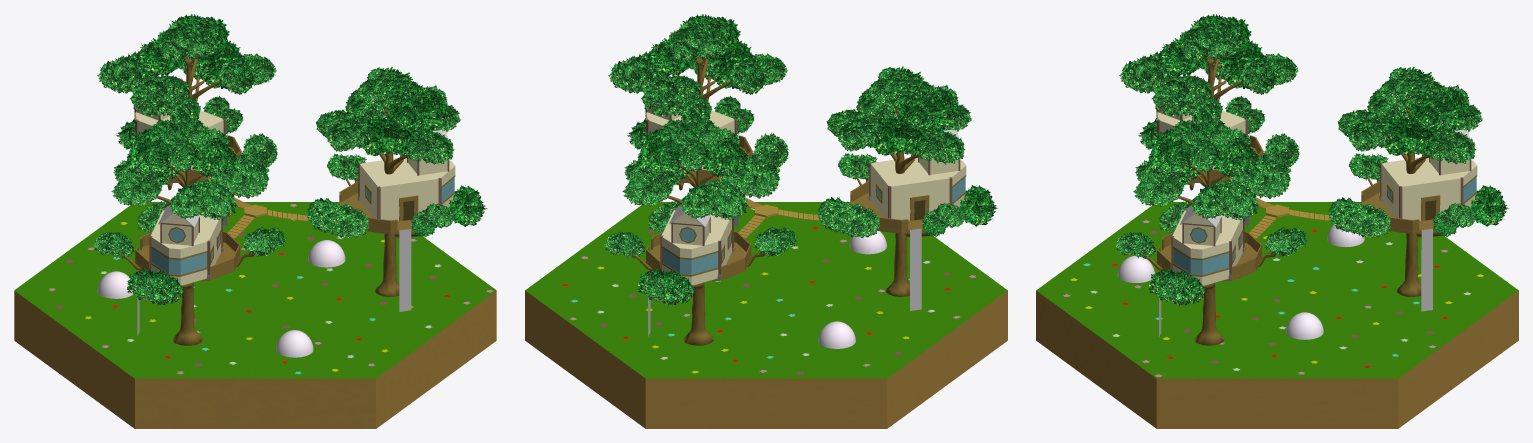
The model's file is Tuile_Foret_Village_Niv4.fbx.
3 renders of one model, left to right at view 1: azimuth 30°, elevation 25°; view 2: azimuth 150°, elevation 25°; view 3: azimuth 270°, elevation 25°, orthographic.
Parts seen in each view (by area): view 1: Tuile, Arbres, maison.001, maison.002, Sphere, platforme.002, platforme.001, Plane.001, maison, poutre.002; view 2: Tuile, Arbres, maison.002, maison, Sphere, platforme, platforme.002, Plane.002, maison.001, poutre; view 3: Tuile, Arbres, maison, maison.001, Sphere, platforme.001, platforme, Plane, maison.002, poutre.001.
Boxes of the visible parts, x1,y1,x2,y2 form: Tuile: (14,202,496,428); Arbres: (93,14,487,345); maison.001: (360,157,455,221); maison.002: (151,210,221,285); Sphere: (97,240,345,357); platforme.002: (135,231,240,281); platforme.001: (339,181,439,234); Plane.001: (399,229,411,311); maison: (134,109,223,169); poutre.002: (149,209,223,278); Tuile: (525,202,1007,428); Arbres: (604,14,997,345); maison.002: (870,157,966,220); maison: (661,210,731,285); Sphere: (651,231,886,348); platforme: (646,231,751,281); platforme.002: (850,180,950,233); Plane.002: (910,228,921,310); maison.001: (645,109,734,169); poutre: (660,209,734,278); Tuile: (1036,202,1518,428); Arbres: (1114,14,1508,345); maison: (1381,157,1477,220); maison.001: (1172,210,1242,285); Sphere: (1117,224,1364,339); platforme.001: (1156,231,1262,281); platforme: (1361,181,1461,233); Plane: (1421,228,1432,311); maison.002: (1156,109,1245,169); poutre.001: (1170,209,1245,278).
Bounding box in the file's own units: 107 × 75.08 × 124.
